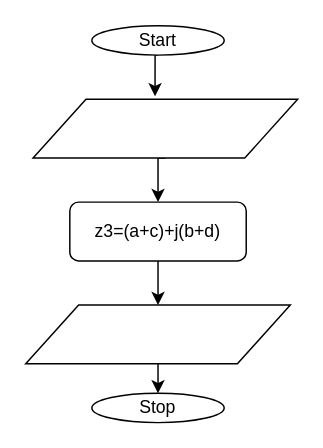
This 323x448 diagram has some shape labels left out. The shapes that lost their labels are listed below. From the top down, each one's centre as x and y in pixels, then its label:
point (165, 128): z1=a + jb z2=c + jd
point (157, 334): output z3
